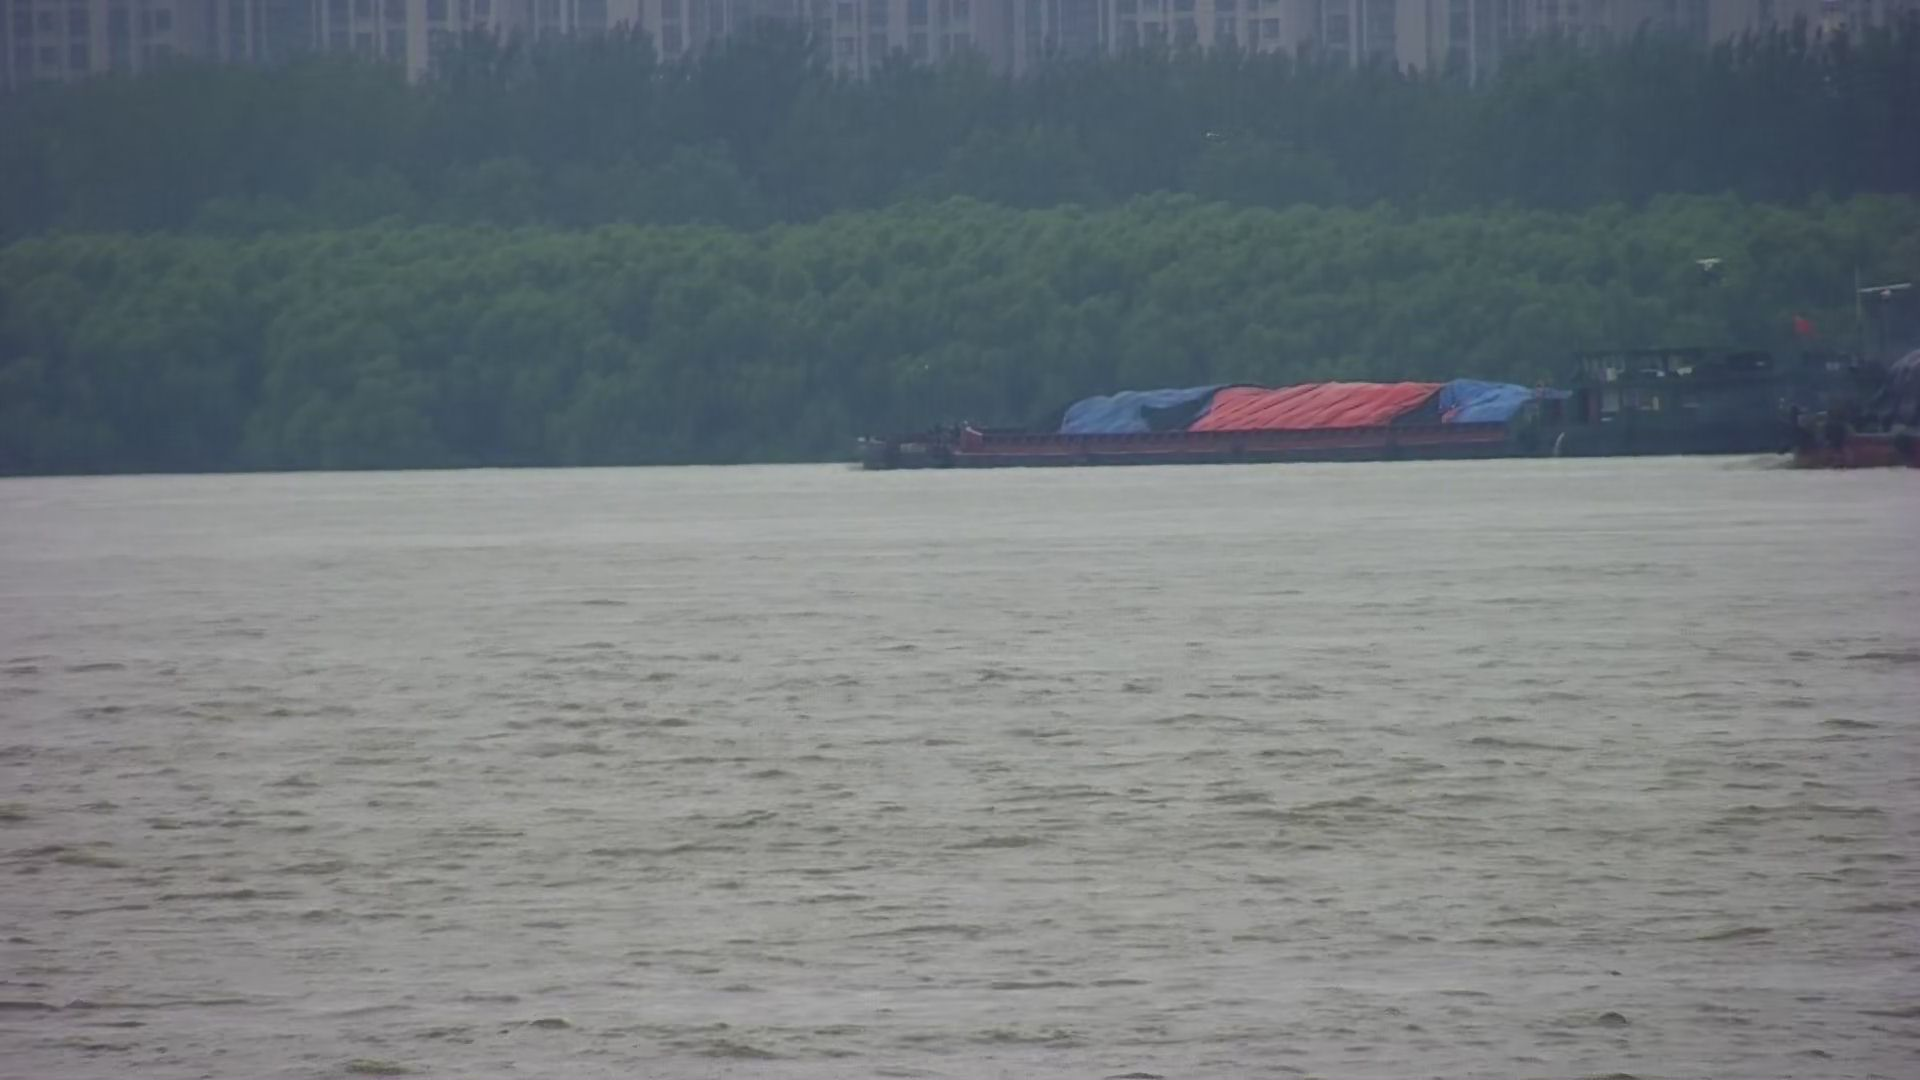ship: (857, 320, 1826, 467), (1785, 273, 1920, 469)
